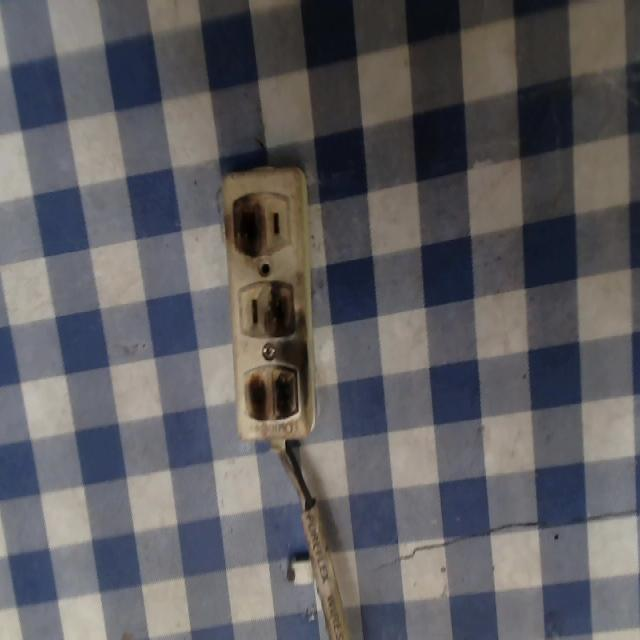-: (239, 360, 304, 431), (261, 273, 307, 347), (225, 191, 269, 264)
